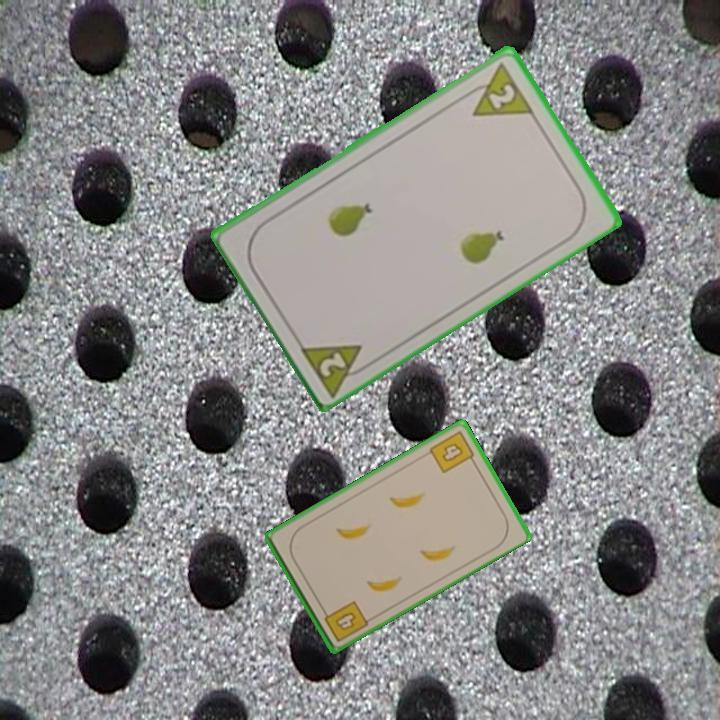2p: (458, 58, 536, 120), (295, 339, 375, 397)
4b: (426, 427, 479, 476), (318, 597, 371, 645)
